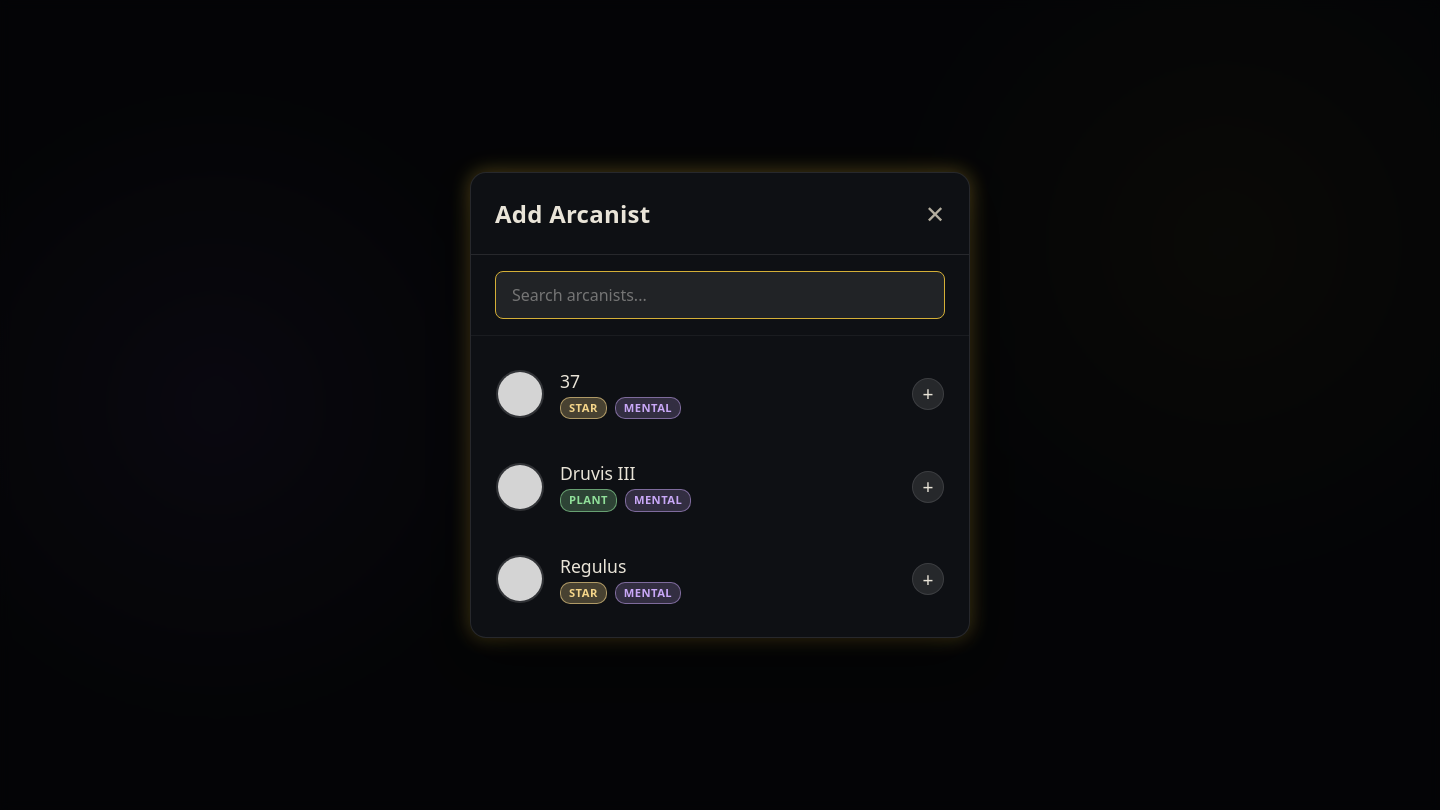
it: AddArcanistModal › searches by afflatus (secondary search key)
Type "Plant" into the field with placeholder "Search arcanists..." at [720, 295], box [495,271,945,319]
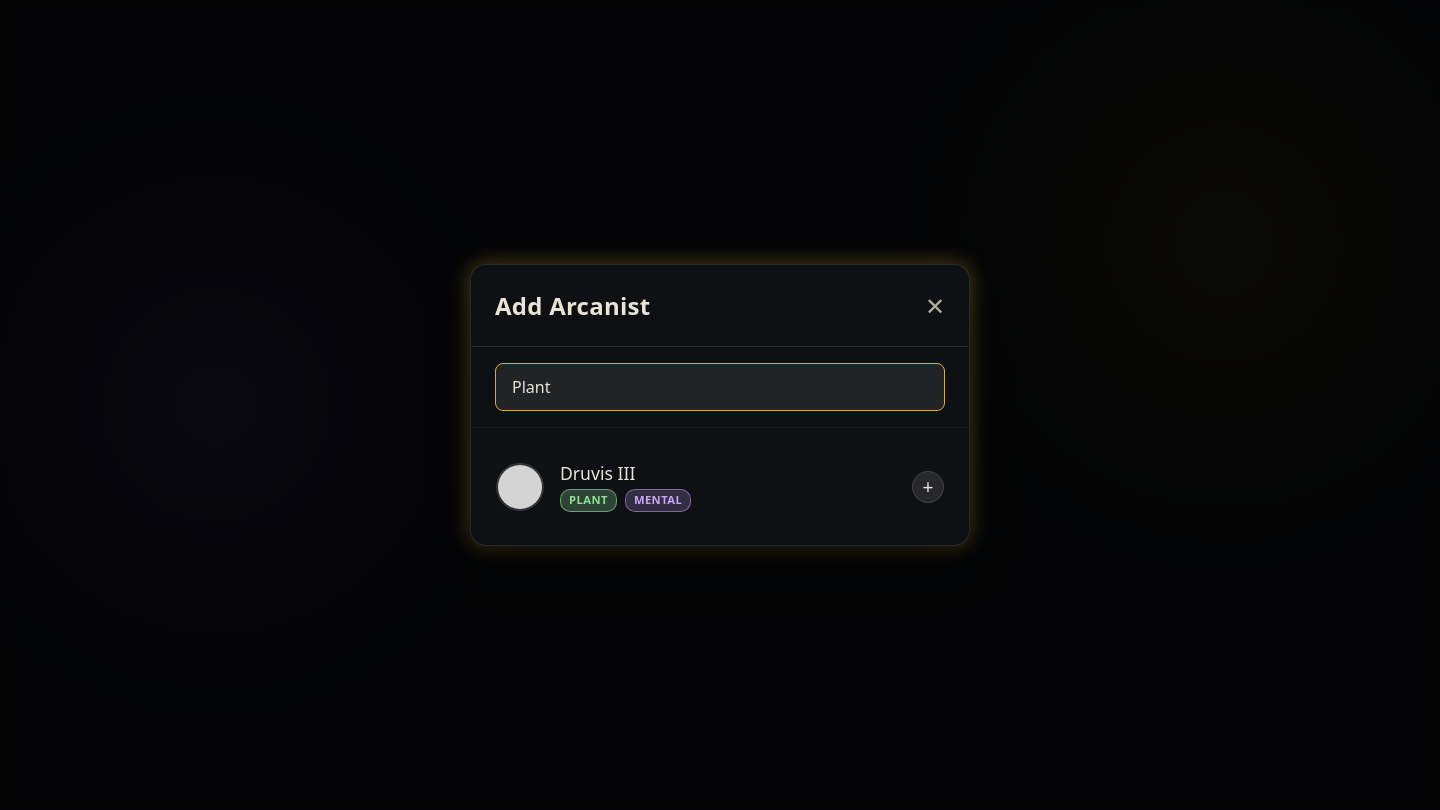
expect the text "Druvis III" is shown: met, box [560,461,635,485]
expect the text "Regulus" is gone: met
